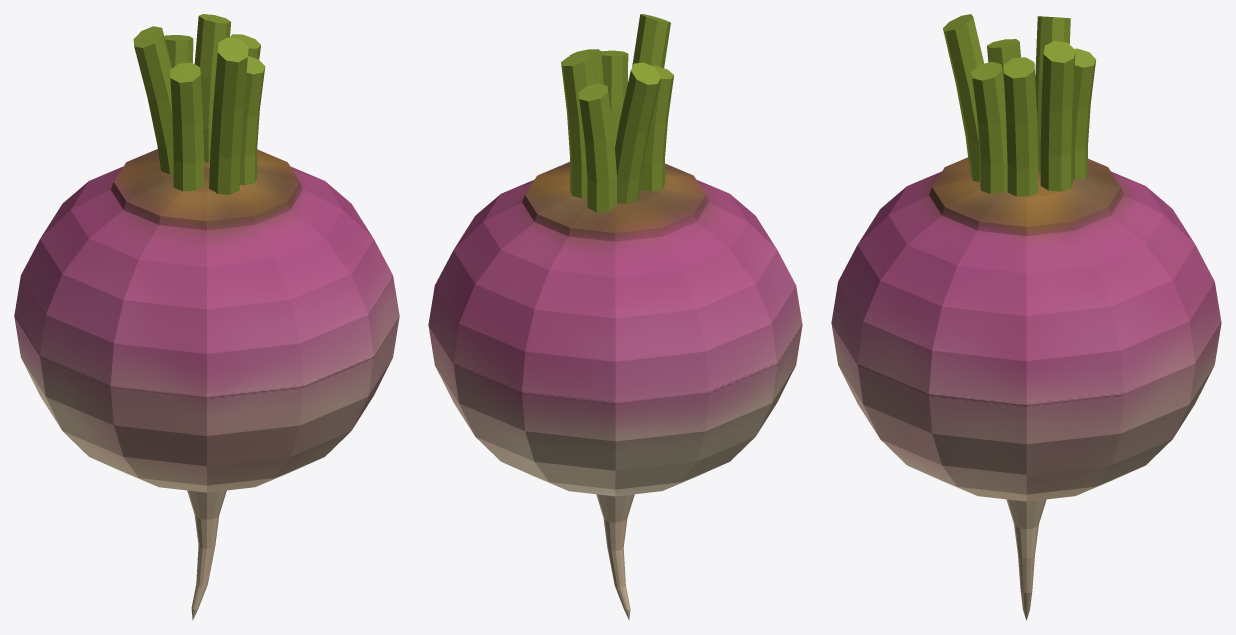
File: turnip-harvest.glb
The picture shows the model from 3 angles, left to right: view 1: azimuth 30°, elevation 25°; view 2: azimuth 150°, elevation 25°; view 3: azimuth 270°, elevation 25°; orthographic projection. The views are drawn at different scales.
Visible parts, largest first — view 1: model; view 2: model; view 3: model.
Part boxes in pixels (bbox=[...]): model: bbox=[14, 14, 399, 620]; model: bbox=[428, 14, 802, 620]; model: bbox=[831, 14, 1221, 620].
Size of the model in its own units: 0.5814 by 1 by 0.5814.
2 materials, 1 textured.
